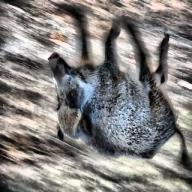boar: (48, 8, 190, 168)
